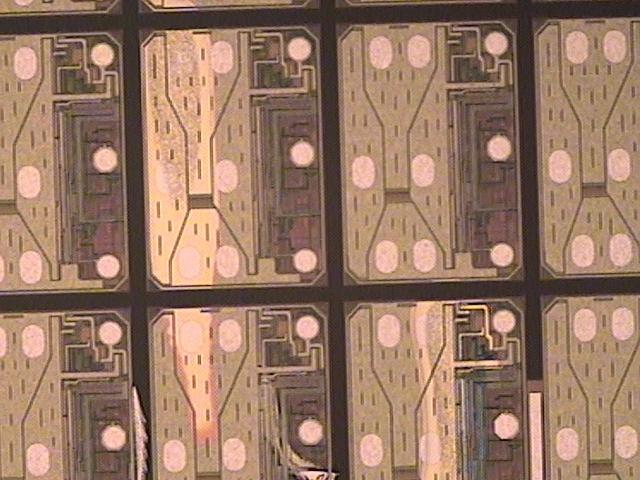COATING BAD: (119, 1, 501, 480)
